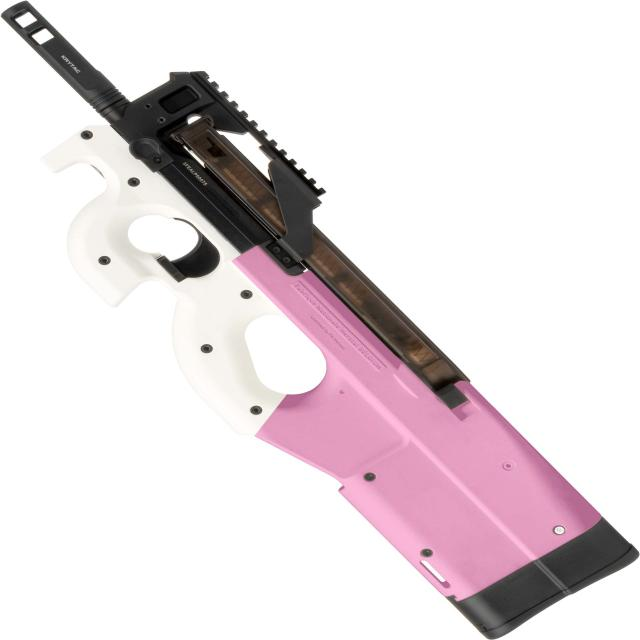Gun: (0, 2, 631, 636)
